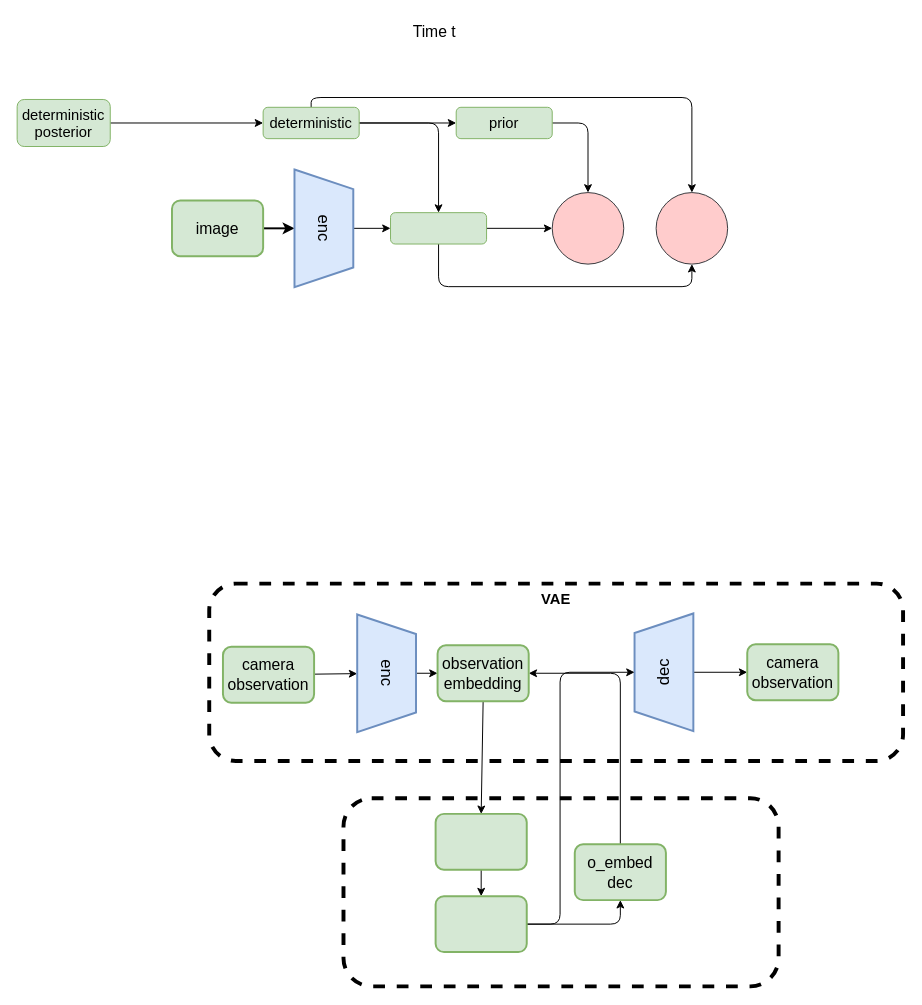
This 922x1005 diagram has some shape labels left out. The centre of each missing label's shape, as x and y in pixels:
evidence: point 691,228
information gain: point 587,228
posterior: point 438,228
RSSM: point 480,841
state: point 480,924
